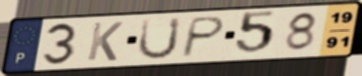3: (38, 21, 80, 68)
5: (233, 9, 279, 58)
8: (282, 10, 318, 53)
K: (84, 20, 125, 63)
P: (179, 15, 228, 59)
U: (135, 15, 184, 61)
